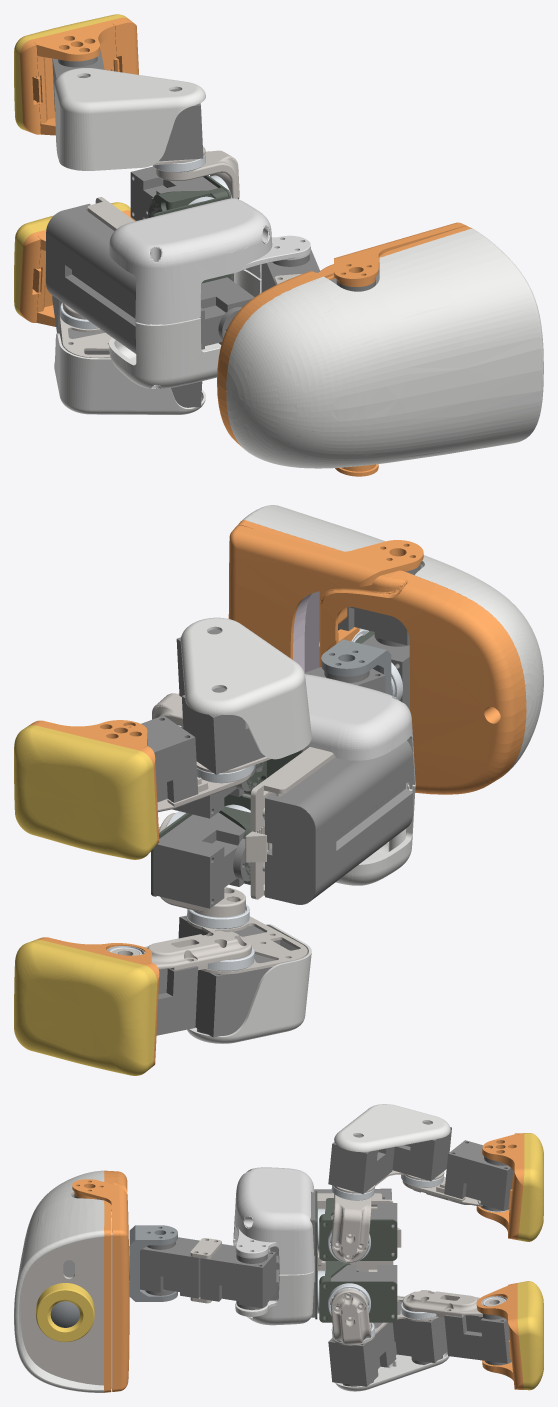
Rendered from microduck.glb.
3 renders of one model, top to bottom at view 1: azimuth 30°, elevation 25°; view 2: azimuth 150°, elevation 25°; view 3: azimuth 270°, elevation 25°, orthographic. The views are drawn at different scales.
Parts seen in each view (by area): view 1: part_042, part_008, part_016, part_006, part_001, part_062, part_026, part_024, part_049, part_048, part_007, part_011 (+12 smaller); view 2: part_049, part_006, part_067, part_023, part_016, part_048, part_042, part_054, part_008, part_062, part_059, part_005 (+21 smaller); view 3: part_038, part_008, part_042, part_048, part_028, part_016, part_022, part_029, part_064, part_063, part_067, part_001 (+25 smaller).
Boxes of the visible parts, x1,y1,x2,y2 form: part_042: (226,229,543,468); part_008: (109,198,310,324); part_016: (54,68,205,170); part_006: (46,203,137,353); part_001: (109,269,261,388); part_062: (54,333,205,414); part_026: (34,23,116,135); part_024: (20,17,138,134); part_049: (217,226,472,447); part_048: (334,222,467,476); part_007: (200,277,254,349); part_011: (130,166,217,220); part_049: (237,520,526,794); part_006: (265,740,412,904); part_067: (14,939,157,1075); part_023: (14,725,157,859); part_016: (180,617,311,759); part_048: (228,525,423,659); part_042: (242,505,543,774); part_054: (153,812,250,908); part_008: (305,674,415,789); part_062: (187,924,311,1043); part_059: (195,954,275,1037); part_005: (245,747,335,899); part_038: (20,1236,103,1385); part_008: (233,1167,314,1274); part_042: (14,1170,104,1392); part_048: (72,1179,129,1391); part_028: (200,1244,276,1309); part_016: (334,1104,450,1152); part_022: (444,1140,513,1211); part_029: (140,1237,200,1298); part_064: (444,1313,511,1365); part_063: (328,1322,396,1386); part_067: (517,1281,543,1390); part_001: (233,1238,314,1325).
Size of the model in its own units: 123 by 142 by 272.
